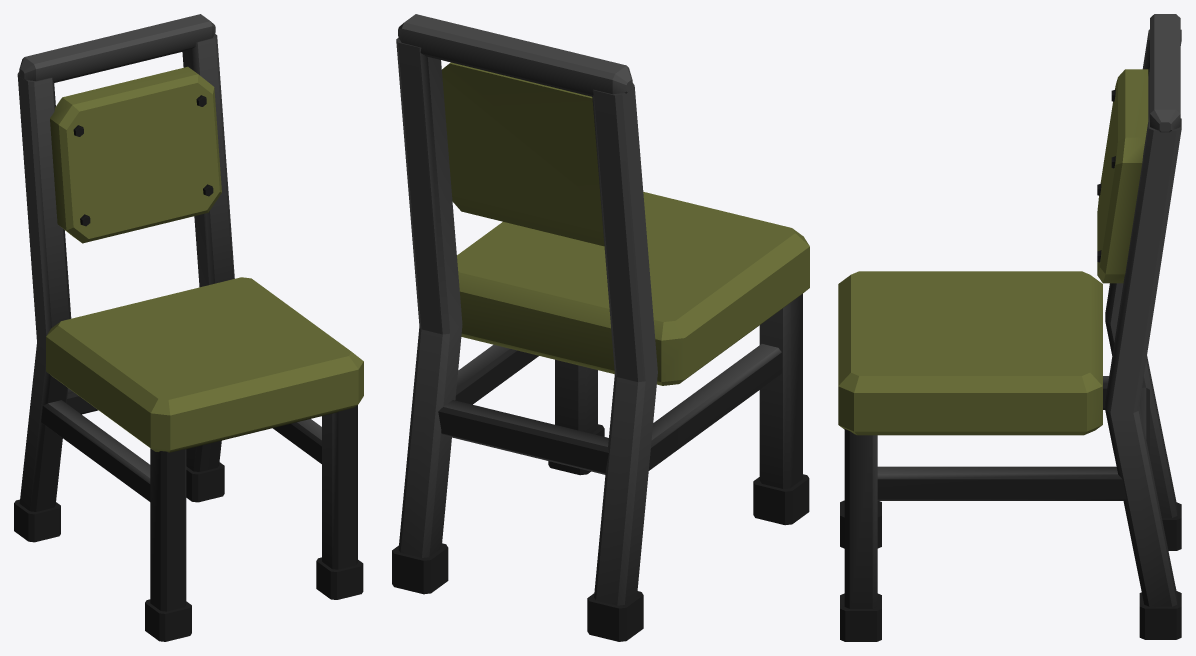
File: chair.glb
The picture shows the model from 3 angles, left to right: view 1: azimuth 30°, elevation 25°; view 2: azimuth 150°, elevation 25°; view 3: azimuth 270°, elevation 25°; orthographic projection. The views are drawn at different scales.
Parts seen in each view (by area): view 1: chair; view 2: chair; view 3: chair.
Boxes of the visible parts, left/top/right/bottom form: chair: left=14, top=14, right=363, bottom=641; chair: left=392, top=14, right=809, bottom=641; chair: left=838, top=14, right=1181, bottom=641.
Size of the model in its own units: 0.43 by 0.91 by 0.54.
Materials: 1 (1 with a texture image).
